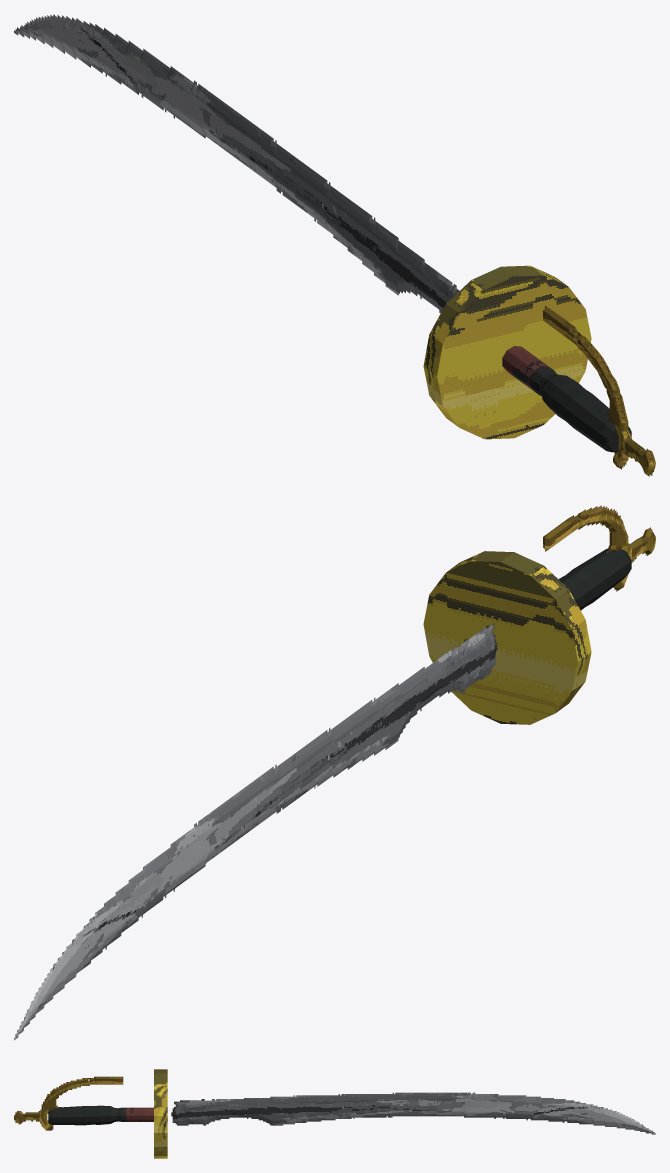
Rendered from saber.glb.
3 renders of one model, top to bottom at view 1: azimuth 30°, elevation 25°; view 2: azimuth 150°, elevation 25°; view 3: azimuth 270°, elevation 25°, orthographic. The views are drawn at different scales.
Parts seen in each view (by area): view 1: blade, bell, grip, bow; view 2: blade, bell, bow, grip; view 3: blade, grip, bow, bell.
Boxes of the visible parts, left/top/right/bottom form: blade: left=14, top=14, right=459, bottom=313; bell: left=423, top=265, right=591, bottom=439; grip: left=502, top=346, right=631, bottom=452; bow: left=543, top=306, right=655, bottom=476; blade: left=14, top=623, right=497, bottom=1040; bell: left=423, top=551, right=591, bottom=724; bow: left=543, top=505, right=655, bottom=591; grip: left=558, top=548, right=631, bottom=610; blade: left=171, top=1092, right=655, bottom=1134; grip: left=48, top=1105, right=153, bottom=1125; bow: left=14, top=1076, right=123, bottom=1130; bell: left=154, top=1069, right=167, bottom=1158.
Size of the model in its own units: 0.1317 by 0.1317 by 0.9446.
2 materials, 2 textured.
